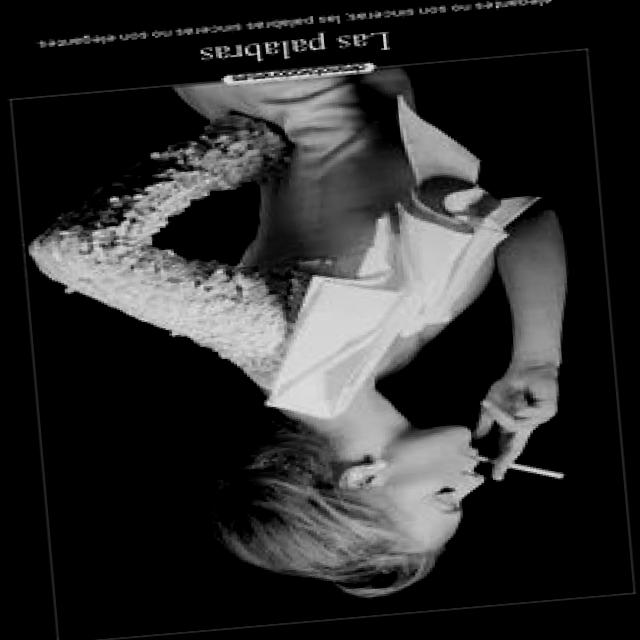cigarette: (460, 433, 570, 492)
